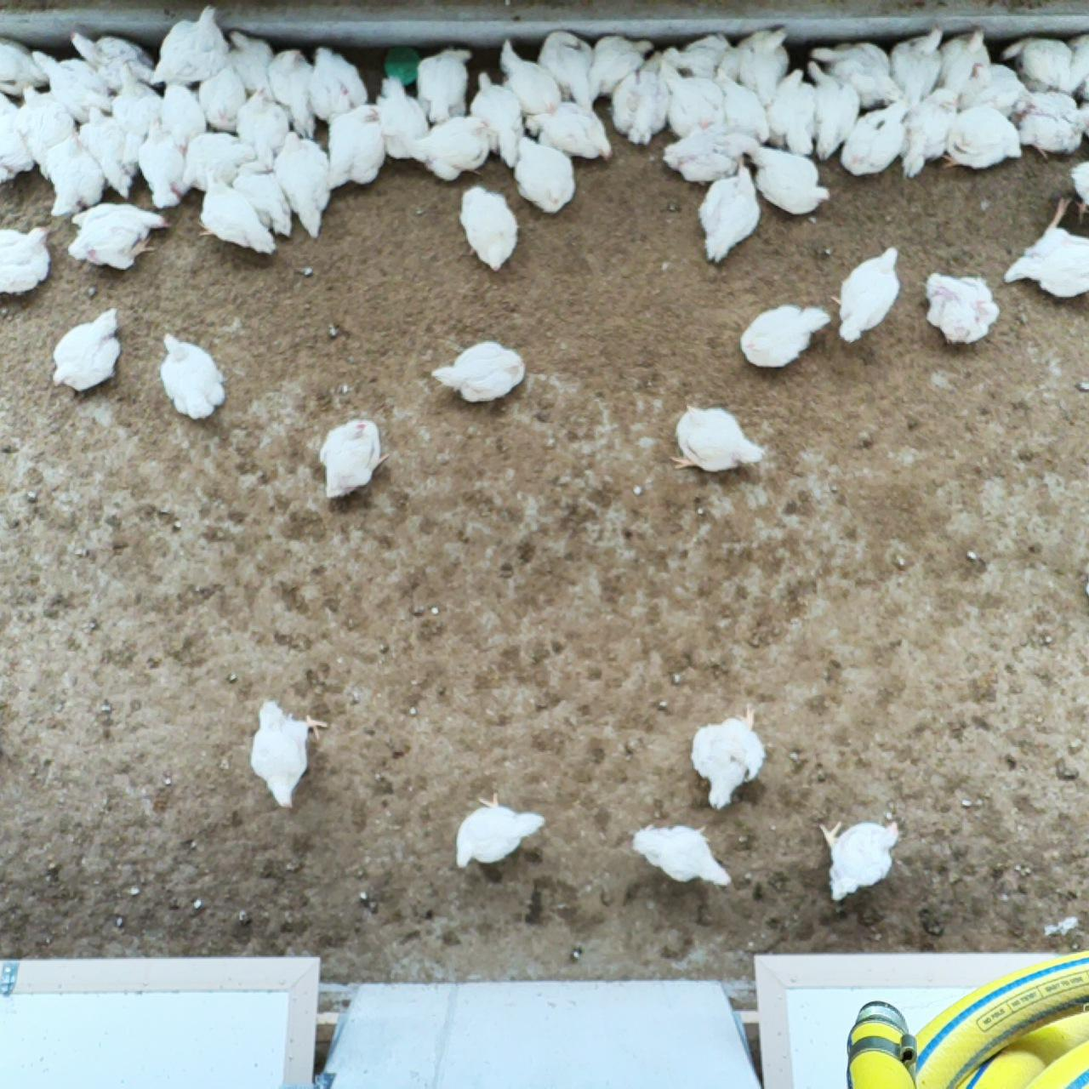chicken: (1001, 194, 1089, 303), (248, 696, 329, 812), (688, 700, 770, 813), (449, 787, 546, 877), (628, 816, 737, 893), (813, 812, 904, 904), (668, 399, 766, 480), (830, 243, 905, 345), (193, 172, 277, 261), (429, 336, 529, 410), (738, 298, 835, 373), (697, 160, 765, 265), (148, 2, 231, 88), (808, 37, 902, 111), (273, 130, 334, 242), (52, 305, 124, 398), (317, 415, 393, 503), (156, 330, 228, 422), (103, 59, 165, 165), (918, 270, 1001, 349), (13, 81, 78, 180), (40, 128, 108, 221), (746, 145, 831, 219), (406, 112, 493, 184), (801, 60, 863, 161), (661, 124, 762, 185), (525, 99, 615, 167), (609, 50, 671, 148), (469, 68, 530, 167), (1008, 88, 1089, 162), (28, 47, 110, 120), (492, 37, 562, 121), (459, 182, 522, 274), (76, 104, 136, 199), (941, 105, 1024, 173), (839, 100, 909, 180), (67, 26, 157, 88), (265, 47, 325, 140), (900, 89, 962, 179), (511, 135, 578, 218), (371, 72, 431, 162), (761, 66, 820, 156), (328, 100, 385, 193), (659, 61, 727, 136), (308, 44, 370, 126), (135, 118, 190, 209), (230, 161, 293, 239), (585, 31, 655, 100), (414, 45, 474, 125), (997, 32, 1073, 94), (65, 218, 154, 270), (889, 22, 946, 103), (737, 24, 793, 106), (713, 63, 771, 142), (235, 83, 290, 164), (151, 80, 210, 154), (0, 222, 56, 299), (180, 131, 251, 191), (659, 31, 740, 81), (959, 59, 1030, 116), (225, 27, 278, 100), (197, 63, 251, 133), (61, 198, 170, 231), (940, 27, 993, 94), (0, 37, 52, 102), (0, 94, 32, 181), (1062, 155, 1089, 222), (1071, 32, 1089, 95)
